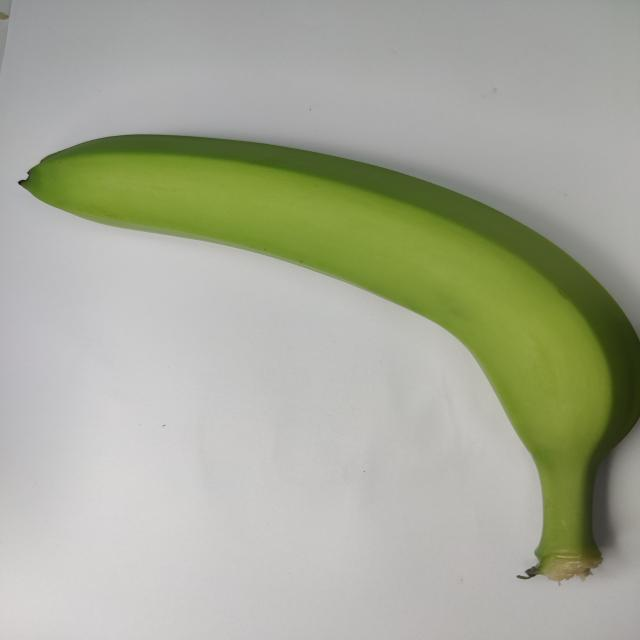raw: (0, 88, 640, 610)
